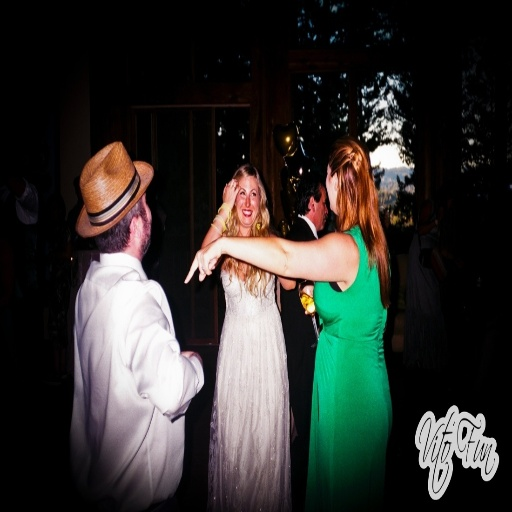hand: (184, 223, 225, 289), (221, 174, 241, 212), (179, 351, 194, 359)
